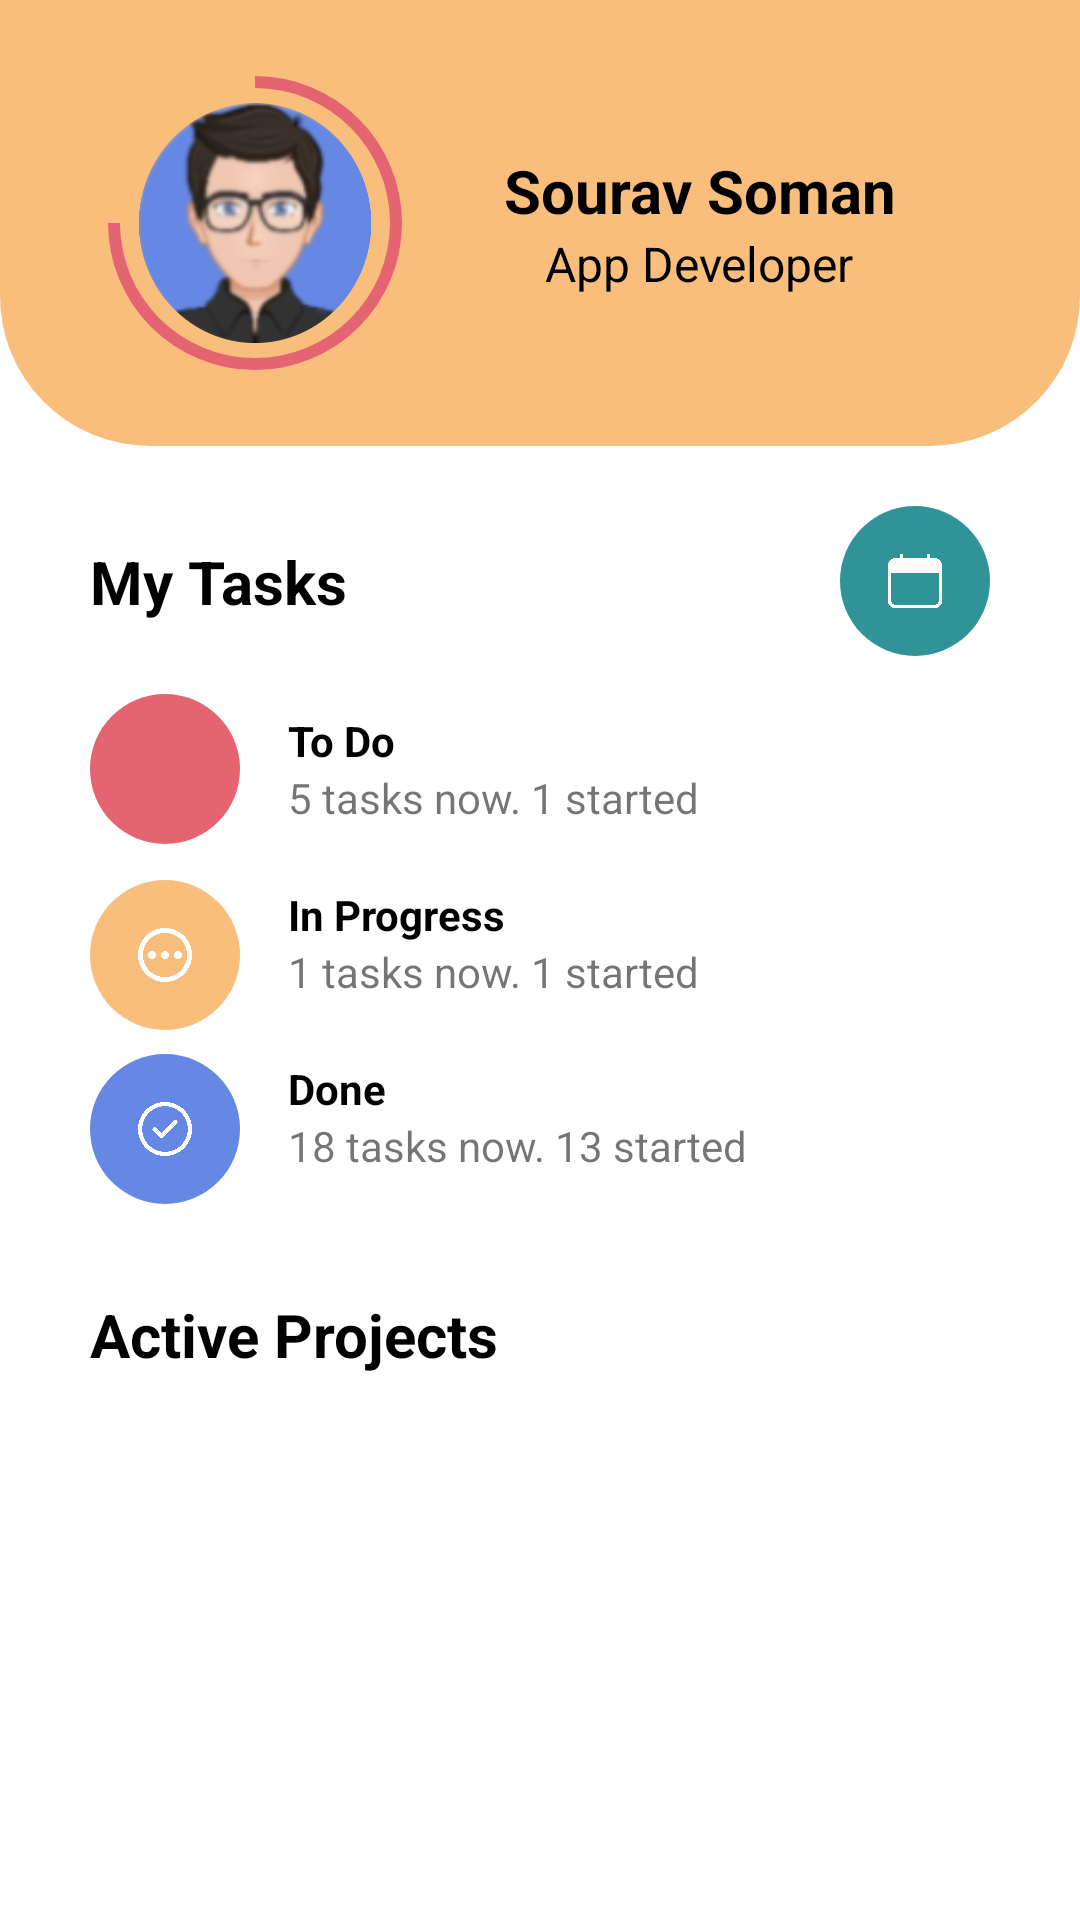

Icon click points for this 1080*1920 phone screenshot, format point (x, y):
button schedule: point (915, 581)
